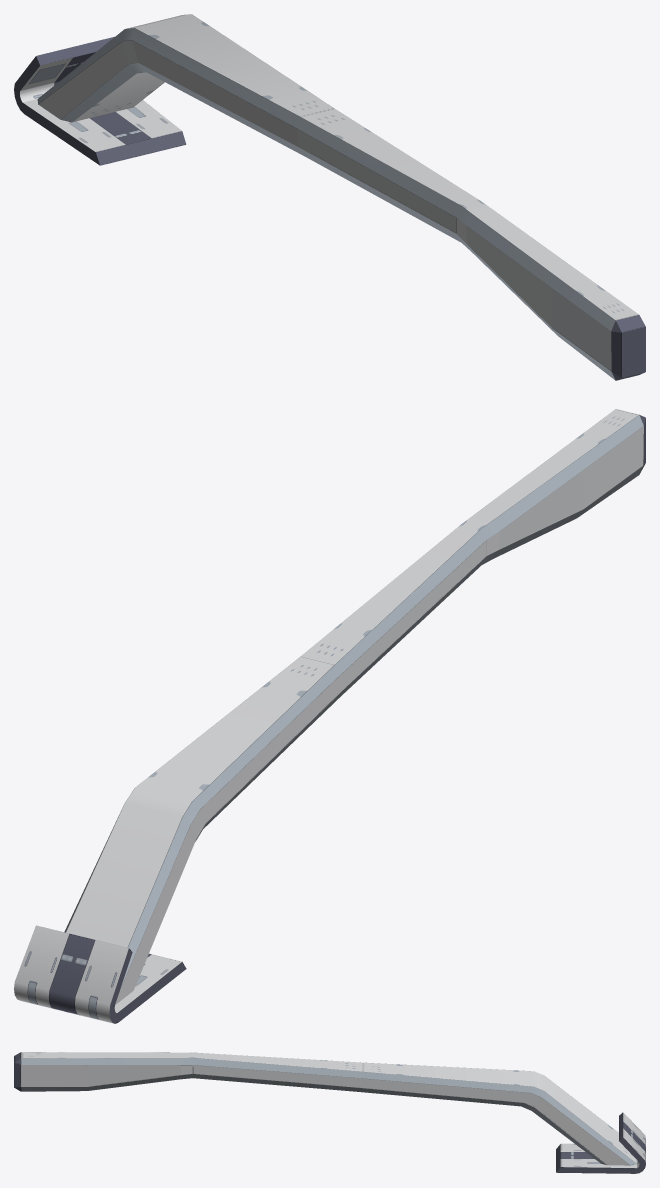
The model's file is Landing_Gear_01_B.FBX.
3 views of the same model, one above another, from view 1: azimuth 30°, elevation 25°; view 2: azimuth 150°, elevation 25°; view 3: azimuth 270°, elevation 25° (orthographic). The views are drawn at different scales.
Visible parts, largest first — view 1: Landing_Gear_01_B; view 2: Landing_Gear_01_B; view 3: Landing_Gear_01_B.
Part boxes in pixels (box(x1,y1,x2,y2)): Landing_Gear_01_B: box(14, 14, 645, 380); Landing_Gear_01_B: box(14, 409, 645, 1023); Landing_Gear_01_B: box(14, 1052, 645, 1173).
Bounding box in the file's own units: 0.6883 × 1.32 × 7.13.
Materials: 1 (1 with a texture image).
